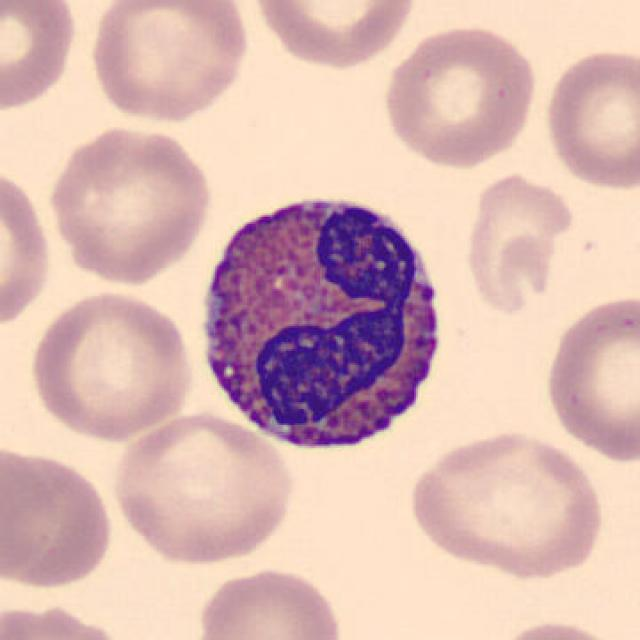Eosinophil: (187, 171, 460, 467)
RBC: (402, 425, 610, 582), (105, 409, 300, 568), (43, 120, 217, 287), (23, 288, 197, 444), (379, 19, 542, 171), (84, 0, 254, 127), (460, 167, 578, 321), (540, 289, 640, 466), (3, 444, 118, 594), (539, 44, 638, 192), (245, 0, 421, 72), (190, 562, 348, 640), (0, 160, 55, 335), (0, 0, 82, 116), (0, 599, 133, 639), (485, 615, 631, 640)
